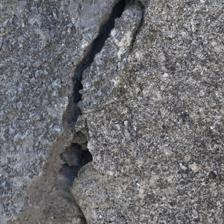Crack: (0, 17, 48, 142), (60, 37, 90, 101)
